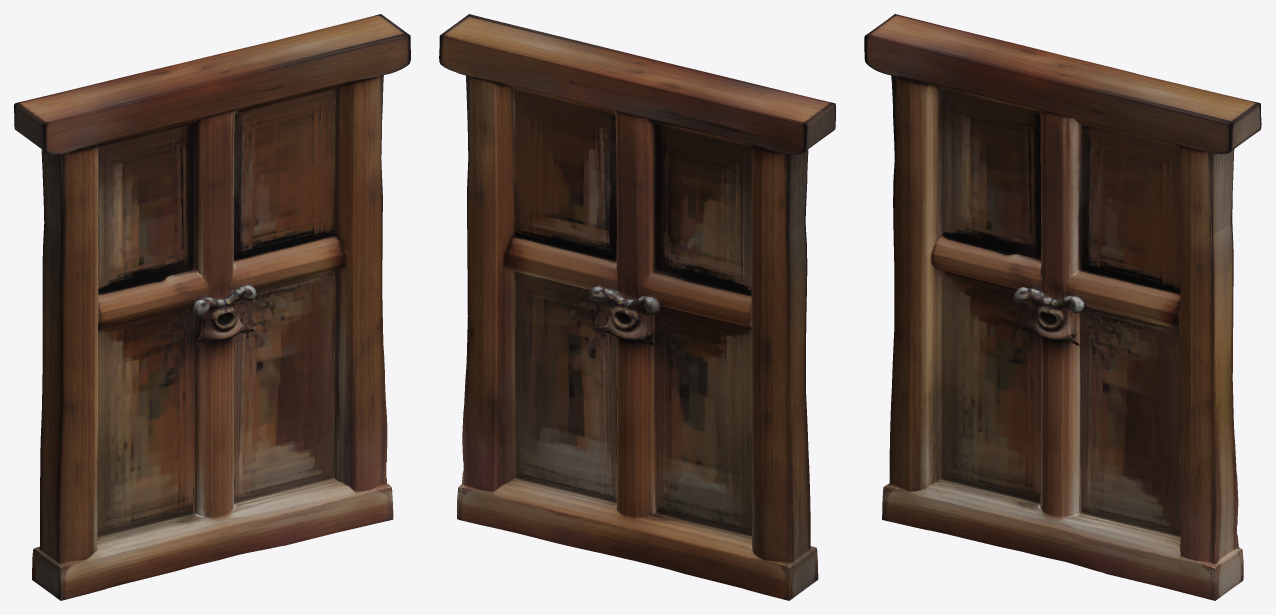
The model's file is window_frame_462820_20251230_114304_20251230_120118.glb.
3 views of the same model, side by side, from view 1: azimuth 30°, elevation 25°; view 2: azimuth 150°, elevation 25°; view 3: azimuth 330°, elevation 25° (orthographic).
Parts seen in each view (by area): view 1: world; view 2: world; view 3: world.
Part boxes in pixels (bbox=[...]): world: bbox=[14, 14, 410, 600]; world: bbox=[439, 14, 835, 600]; world: bbox=[864, 14, 1261, 600].
Size of the model in its own units: 0.7992 by 1 by 0.1365.
Materials: 1 (1 with a texture image).
